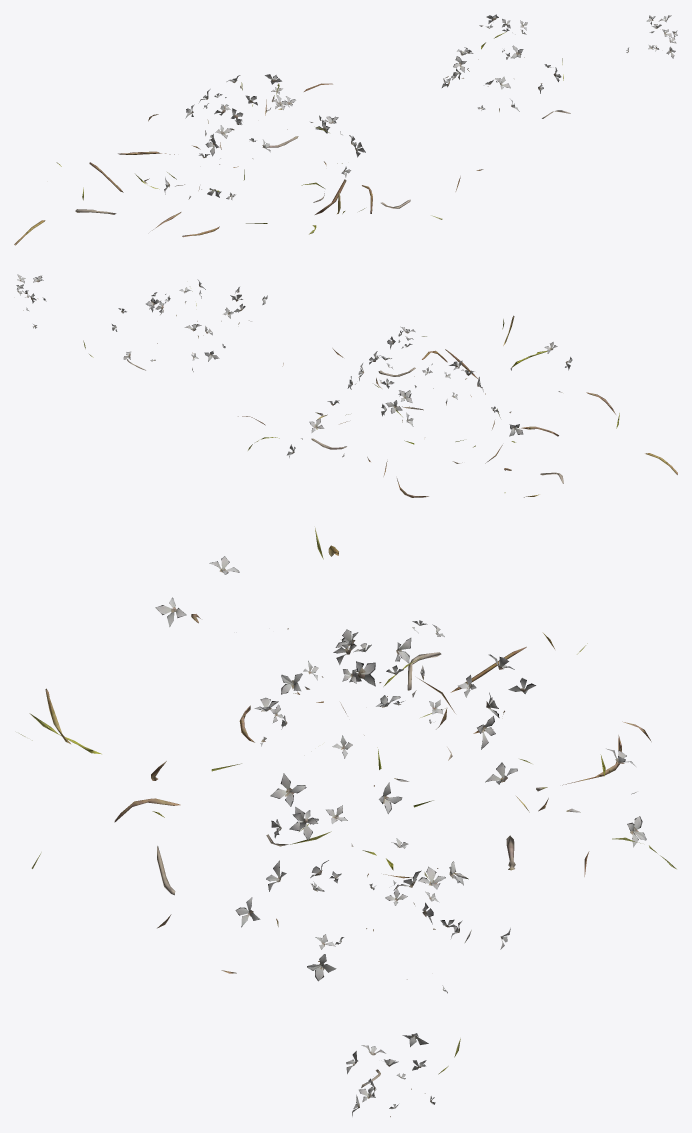
The model's file is flower_heliophila.glb.
3 views of the same model, one above another, from view 1: azimuth 30°, elevation 25°; view 2: azimuth 150°, elevation 25°; view 3: azimuth 270°, elevation 25° (orthographic). The views are drawn at different scales.
Parts seen in each view (by area): view 1: flower_heliophila_large; view 2: flower_heliophila_large; view 3: flower_heliophila_large.
Part boxes in pixels (box(x1,y1,x2,y2)): flower_heliophila_large: box(14, 14, 677, 245); flower_heliophila_large: box(16, 274, 677, 497); flower_heliophila_large: box(19, 528, 676, 1116).
Bounding box in the file's own units: 2.59 × 0.3824 × 1.19.
Materials: 1 (1 with a texture image).
